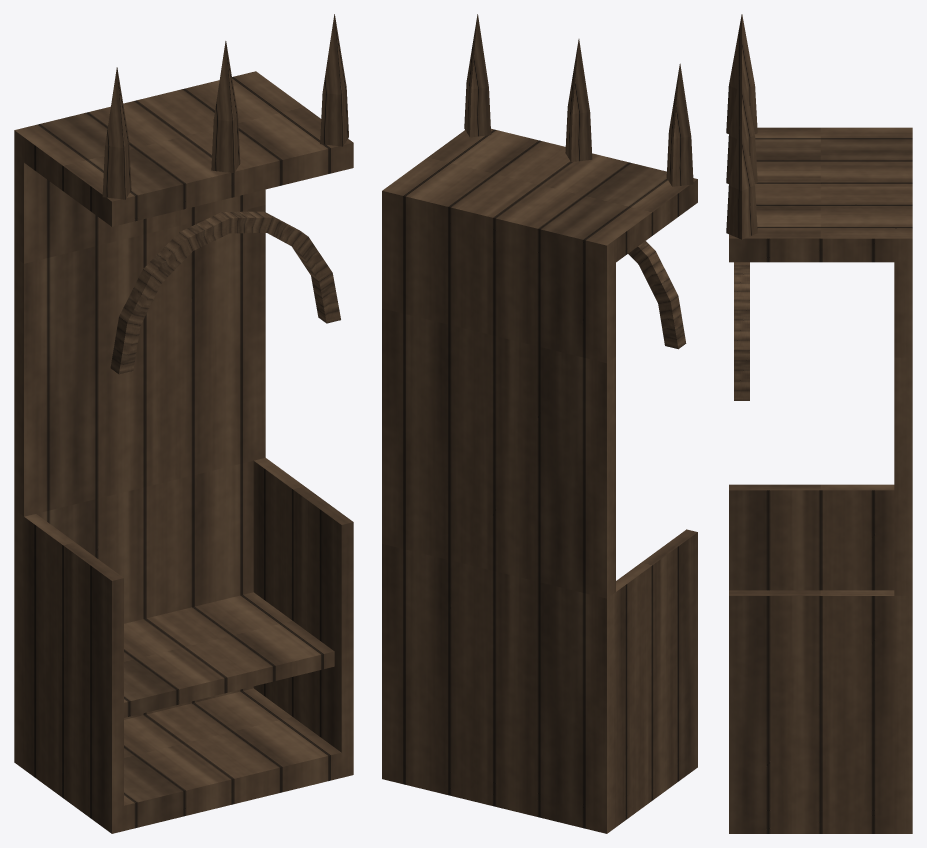
The model's file is Stalls_Gothic_1_LOD1.gltf.
3 renders of one model, left to right at view 1: azimuth 30°, elevation 25°; view 2: azimuth 150°, elevation 25°; view 3: azimuth 270°, elevation 25°, orthographic. The views are drawn at different scales.
Parts seen in each view (by area): view 1: Stalls_Gothic_1_LOD1; view 2: Stalls_Gothic_1_LOD1; view 3: Stalls_Gothic_1_LOD1.
Boxes of the visible parts, left/top/right/bottom form: Stalls_Gothic_1_LOD1: left=14, top=14, right=353, bottom=833; Stalls_Gothic_1_LOD1: left=382, top=14, right=697, bottom=833; Stalls_Gothic_1_LOD1: left=726, top=14, right=912, bottom=833.
Bounding box in the file's own units: 1.02 × 3 × 0.71.
Materials: 1 (1 with a texture image).
